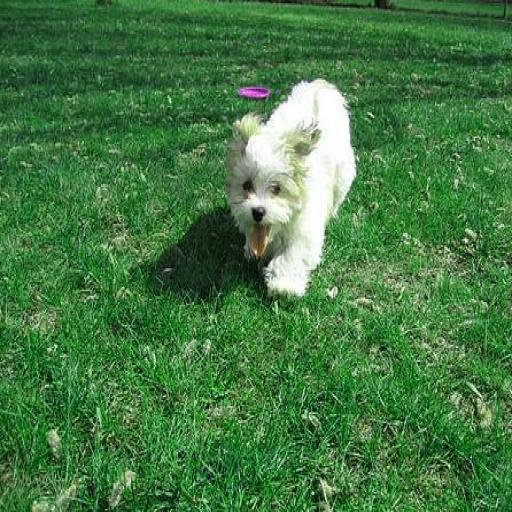dog_face: (215, 110, 314, 244)
